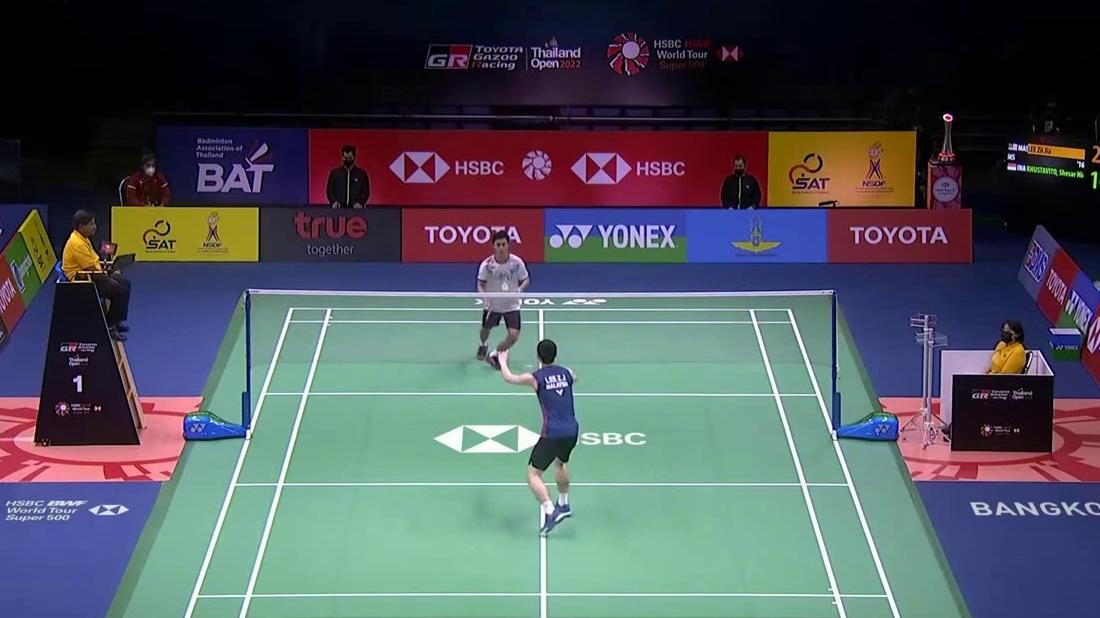racket: (483, 304, 494, 320)
shuttle: (500, 280, 509, 291)
